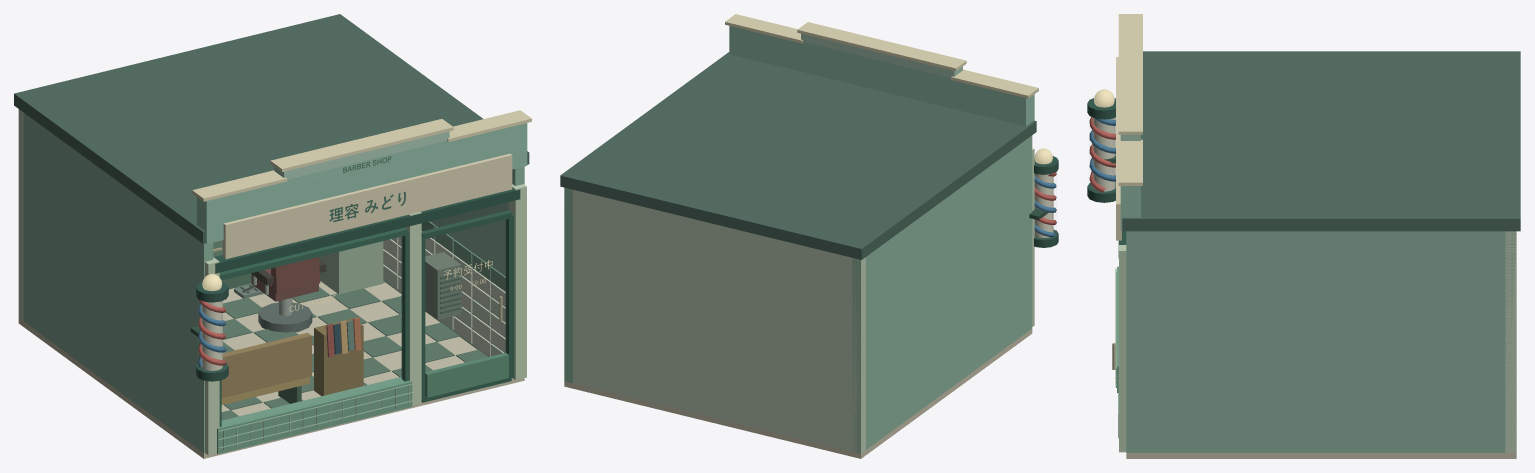
Rendered from barber.glb.
3 renders of one model, left to right at view 1: azimuth 30°, elevation 25°; view 2: azimuth 150°, elevation 25°; view 3: azimuth 270°, elevation 25°, orthographic. The views are drawn at different scales.
Visible parts, largest first — view 1: 绿叶理发店; view 2: 绿叶理发店; view 3: 绿叶理发店.
Boxes of the visible parts, x1,y1,x2,y2 form: 绿叶理发店: [14, 14, 531, 458]; 绿叶理发店: [560, 14, 1058, 458]; 绿叶理发店: [1087, 14, 1520, 458].
Bounding box in the file's own units: 5.1 × 3.92 × 5.33.
86 materials, 5 textured.
